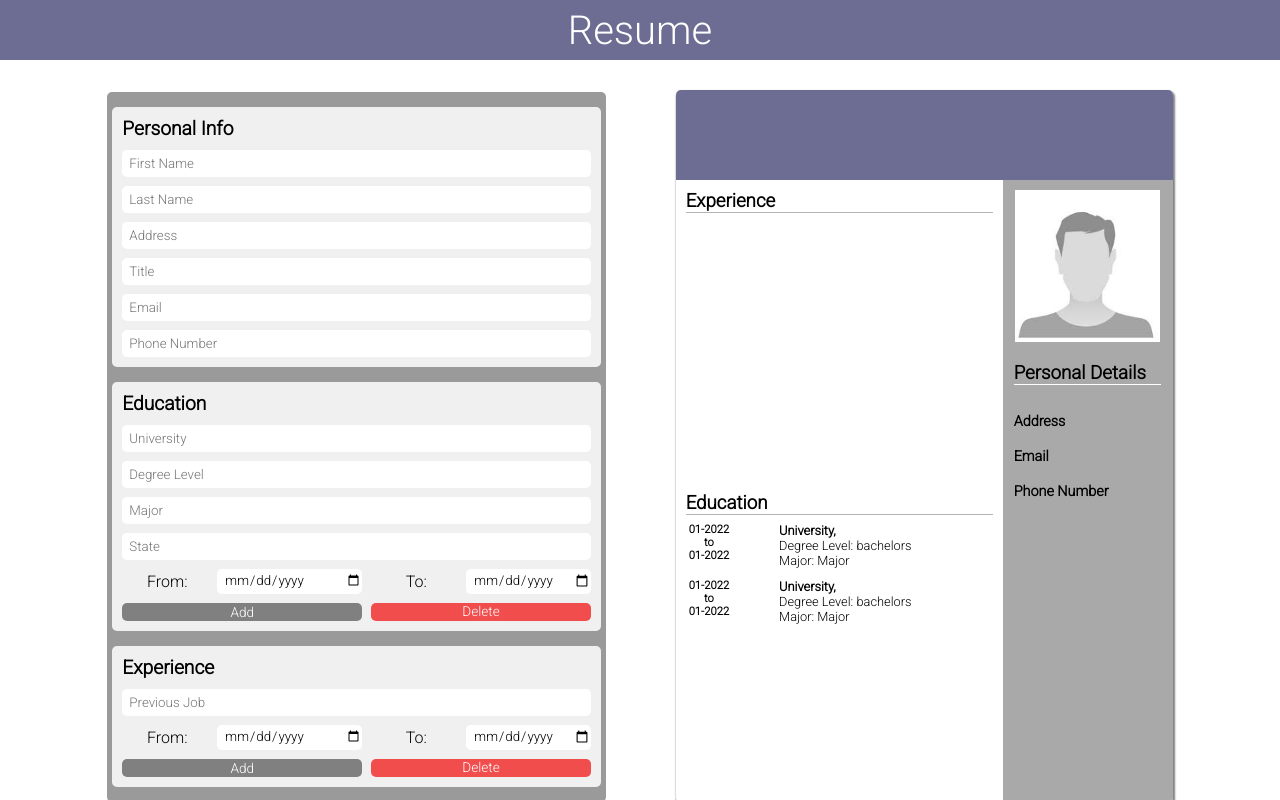
Scenario: experience input section taking input and rendering through state read properly › experience input fields filled out and added twice, successfully renders to dom properly
In the field with placeholder "Previous Job": (356, 702) 122,688 -> 591,716, type "previous job entry"
In the date field with test id "previousJobFrom": (290, 737) 217,724 -> 362,750, type "2022-01-21"
In the date field with test id "previousJobTo": (528, 737) 466,724 -> 591,750, type "2022-03-21"
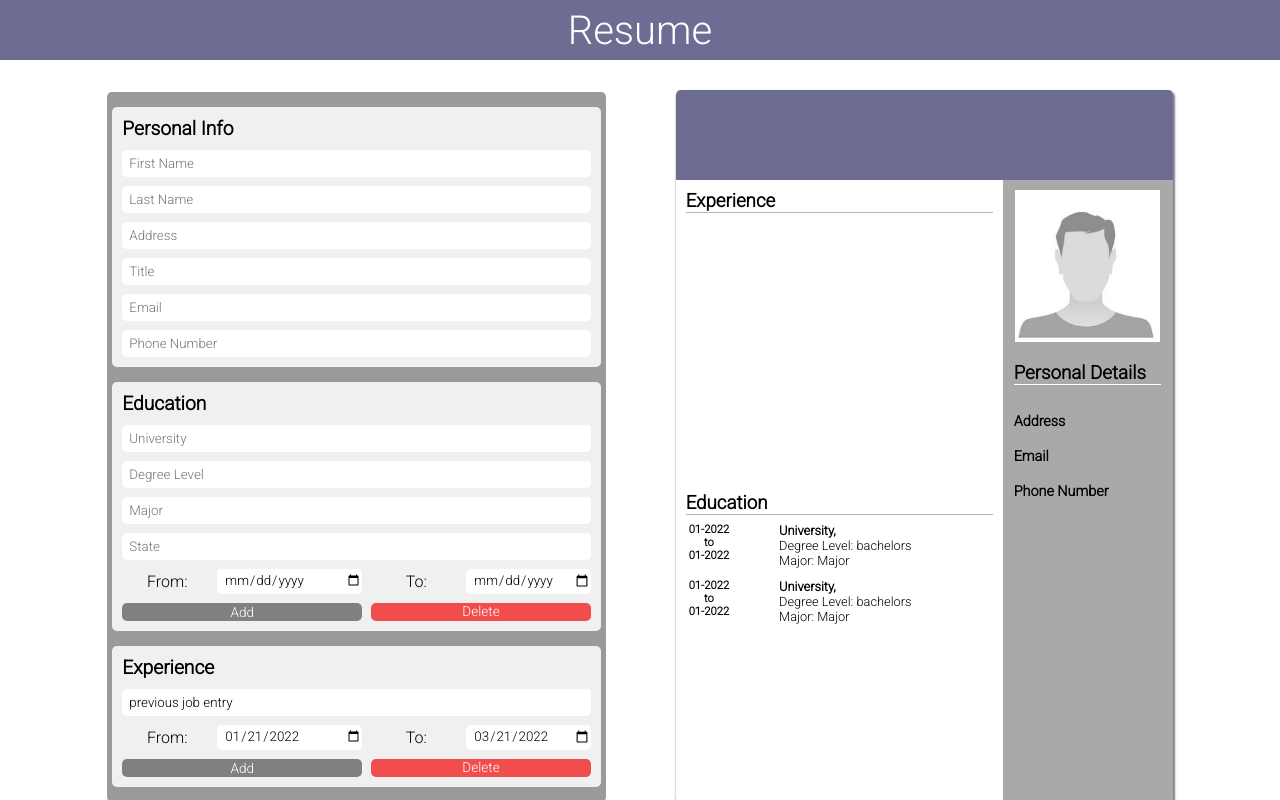
Click the button with test id "experienceAddBtn": (242, 768) 122,758 -> 362,776
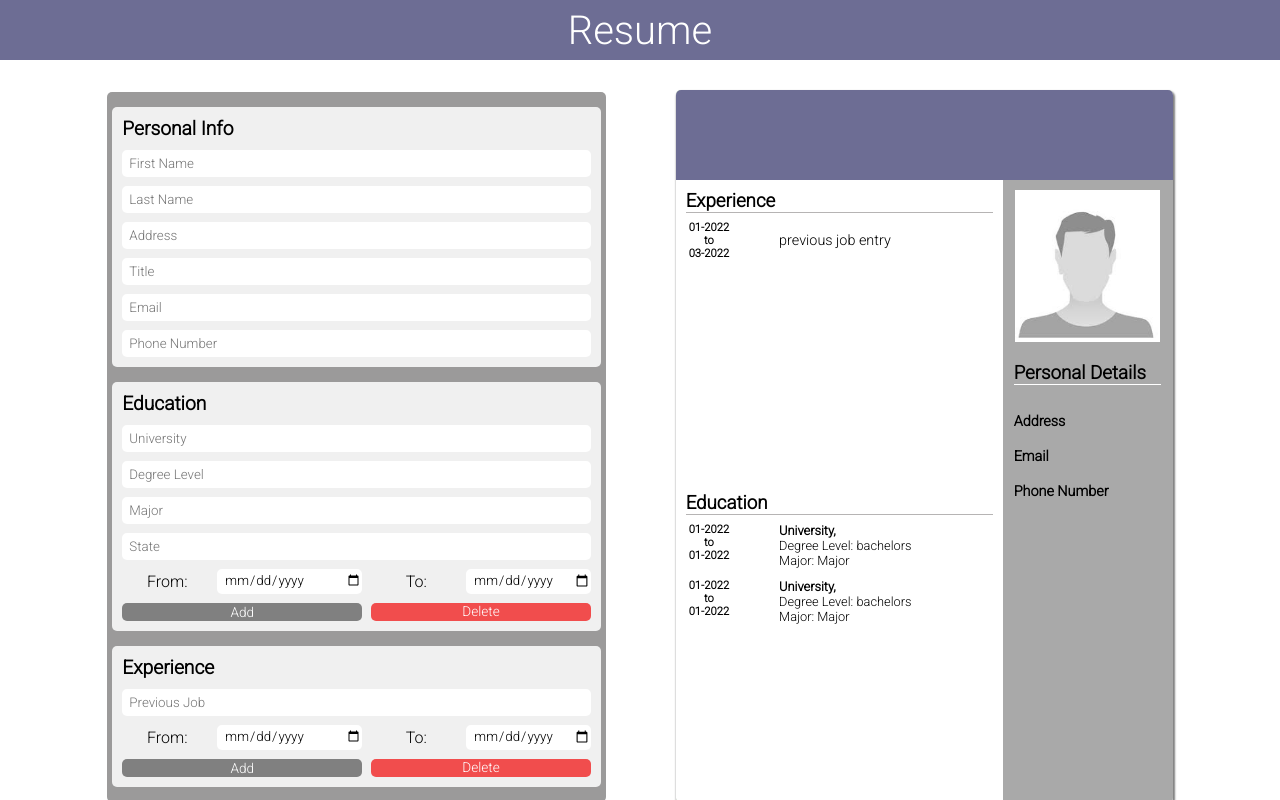
In the field with placeholder "Previous Job": (356, 702) 122,688 -> 591,716, type "previous job entry"
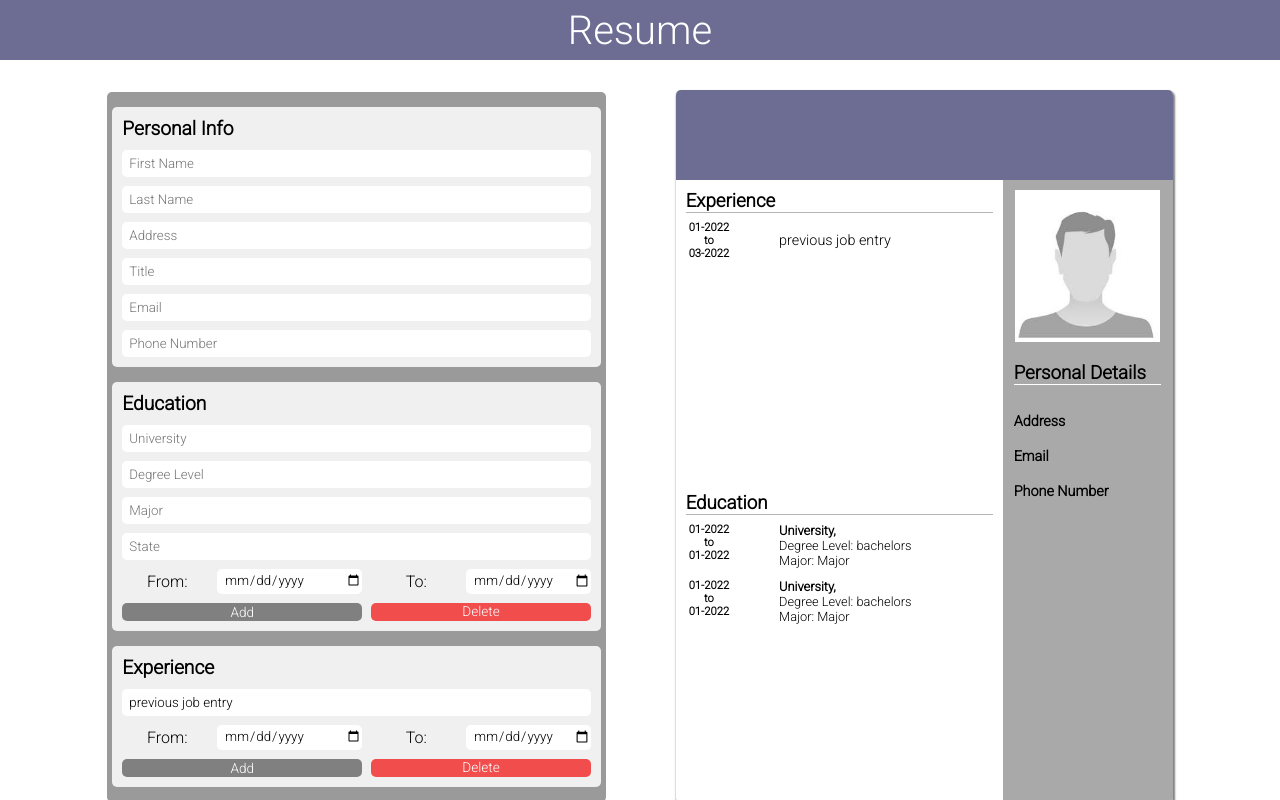
In the date field with test id "previousJobFrom": (290, 737) 217,724 -> 362,750, type "2022-01-21"
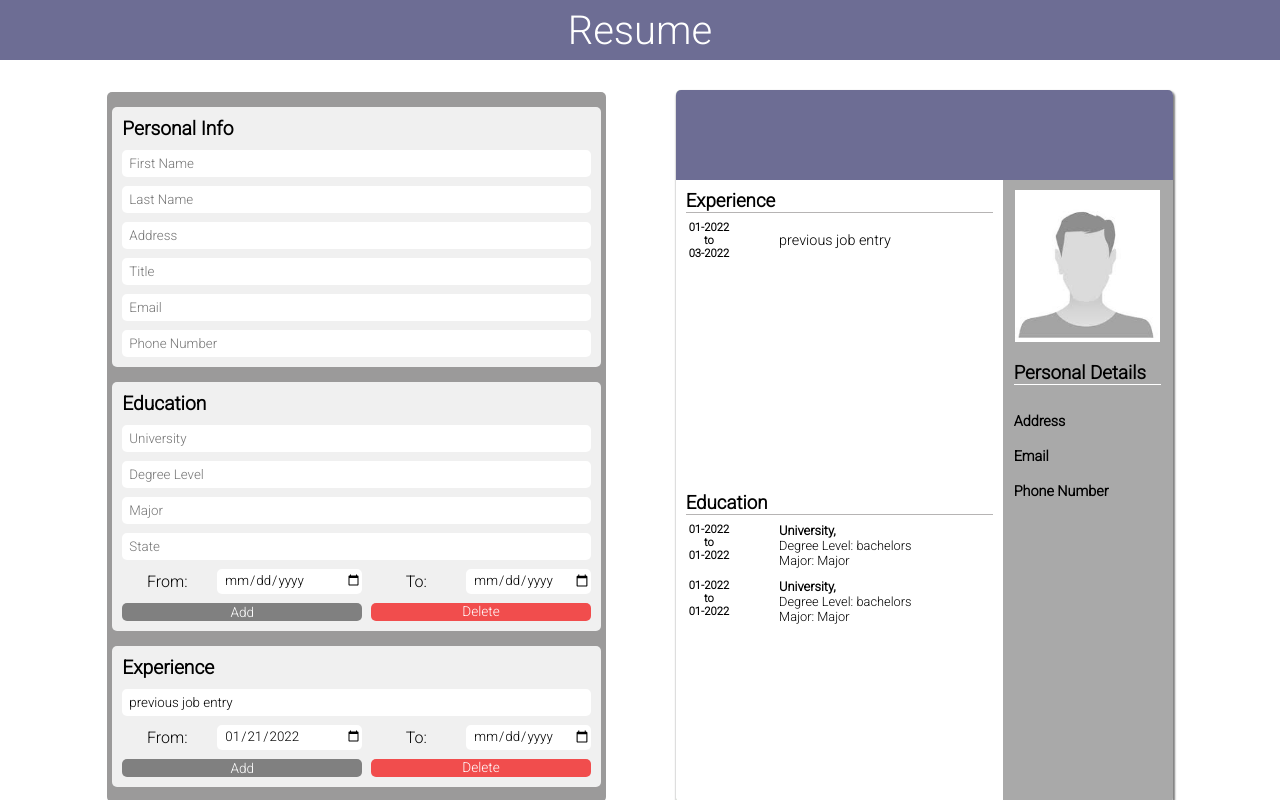
In the date field with test id "previousJobTo": (528, 737) 466,724 -> 591,750, type "2022-03-21"
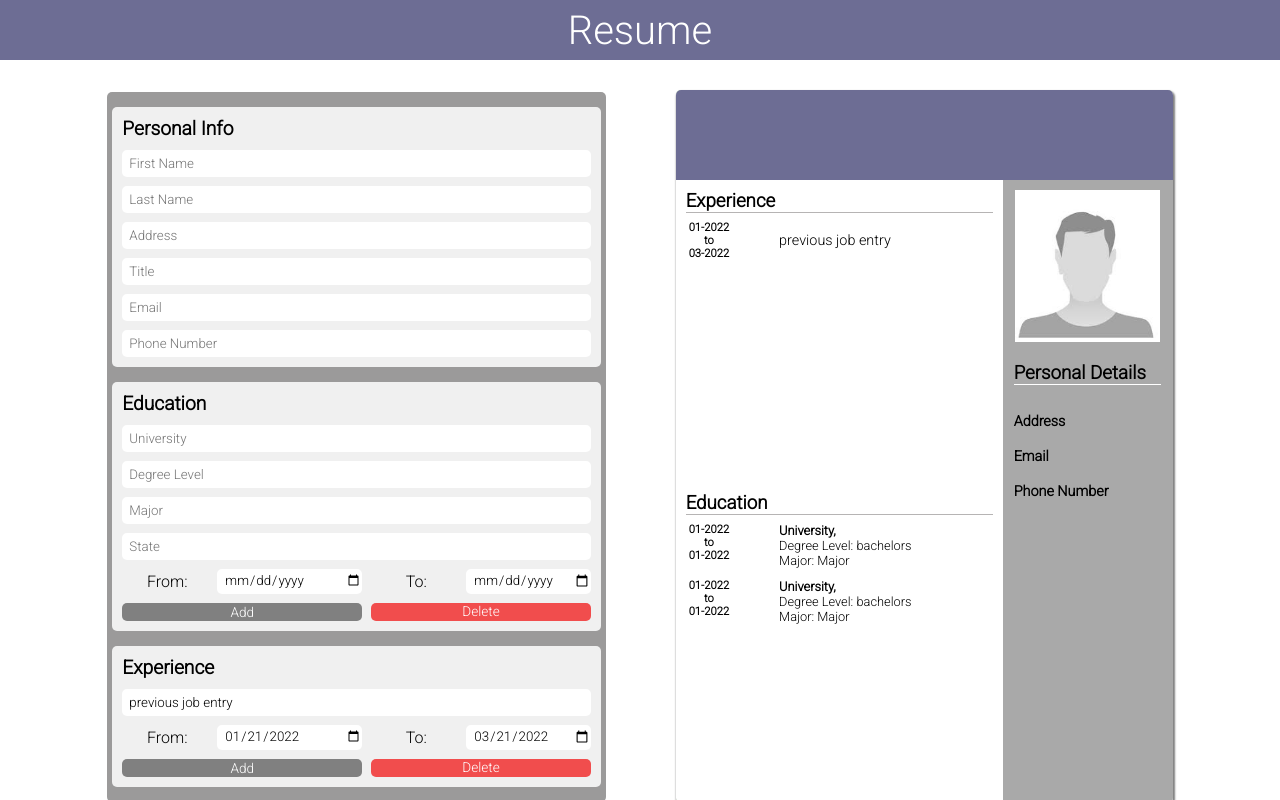
Click the button with test id "experienceAddBtn": (242, 768) 122,758 -> 362,776
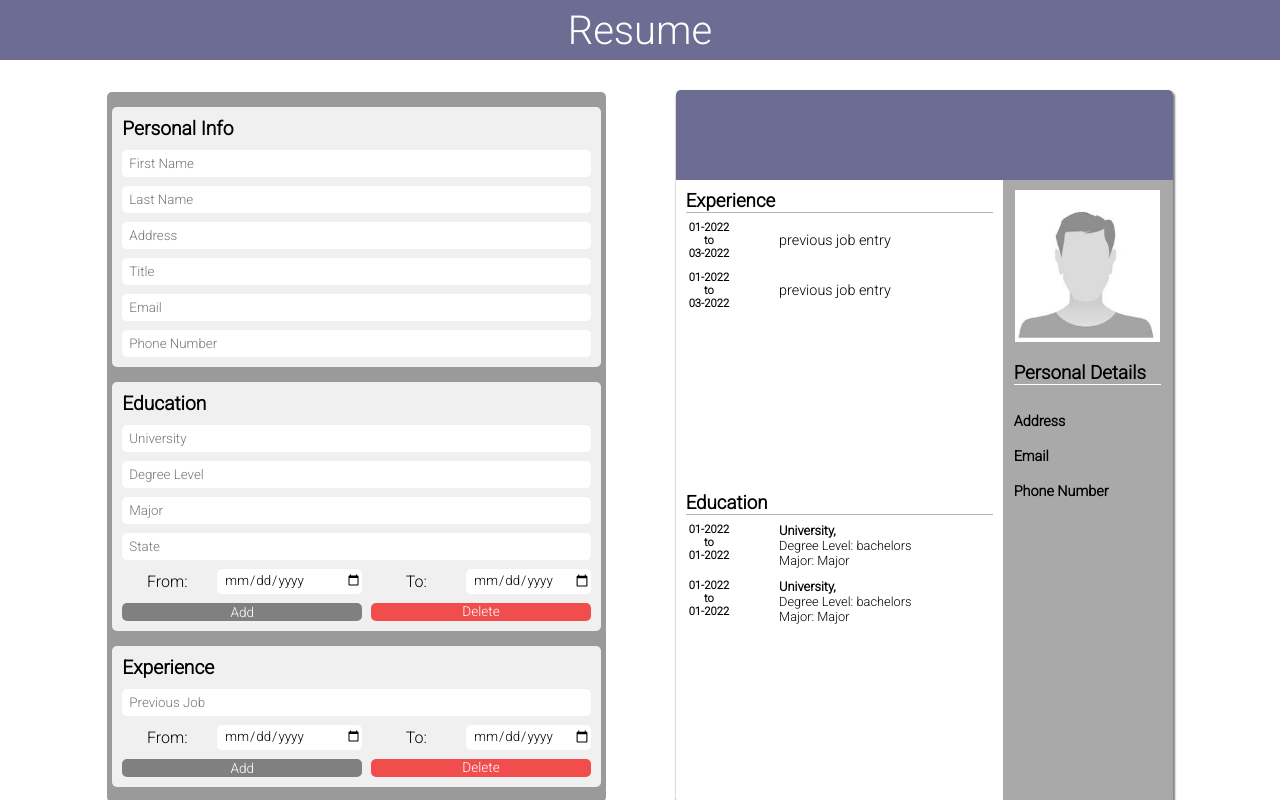
Now the number of elements with test id "renderedExpItem" is 2, box 689,221 -> 891,260; 689,271 -> 891,310
